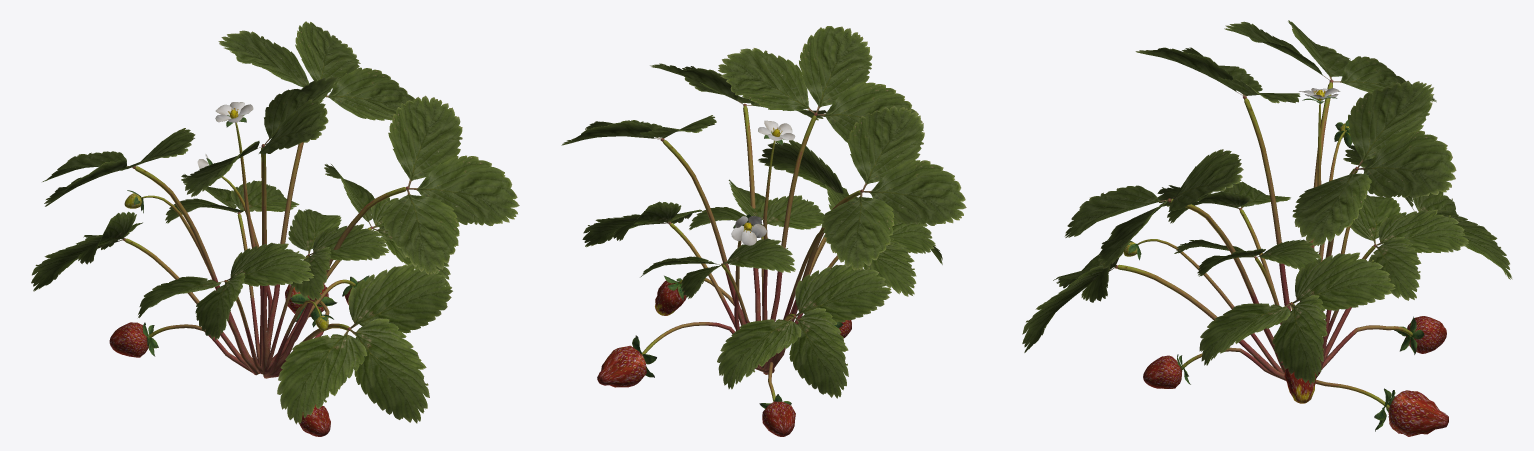
3 renders of one model, left to right at view 1: azimuth 30°, elevation 25°; view 2: azimuth 150°, elevation 25°; view 3: azimuth 270°, elevation 25°, orthographic. The views are drawn at different scales.
Visible parts, largest first — view 1: leaf2, leaf1, branch1, fruit5, leaf3, flower1; view 2: leaf1, leaf2, branch1, fruit7, flower1, fruit5, leaf3, fruit8; view 3: leaf2, leaf1, branch1, fruit7, fruit5, leaf3, fruit8.
Boxes of the visible parts, x1,y1,x2,y2 form: leaf2: (31,164,452,424); leaf1: (42,21,519,274); branch1: (123,122,409,378); fruit5: (109,322,330,436); leaf3: (127,115,369,421); flower1: (197,102,253,168); leaf1: (561,26,966,270); leaf2: (582,140,942,398); branch1: (641,103,863,401); fruit7: (597,345,646,387); flower1: (731,120,795,245); fruit5: (762,320,851,436); leaf3: (632,132,842,408); fruit8: (655,280,686,315); leaf2: (1022,145,1512,384); leaf1: (1064,20,1456,268); branch1: (1115,79,1412,409); fruit7: (1388,390,1448,436); fruit5: (1143,316,1446,388); leaf3: (1128,95,1424,431); fruit8: (1284,368,1316,403).
Bounding box in the file's own units: 0.5555 × 0.5673 × 0.4293.
